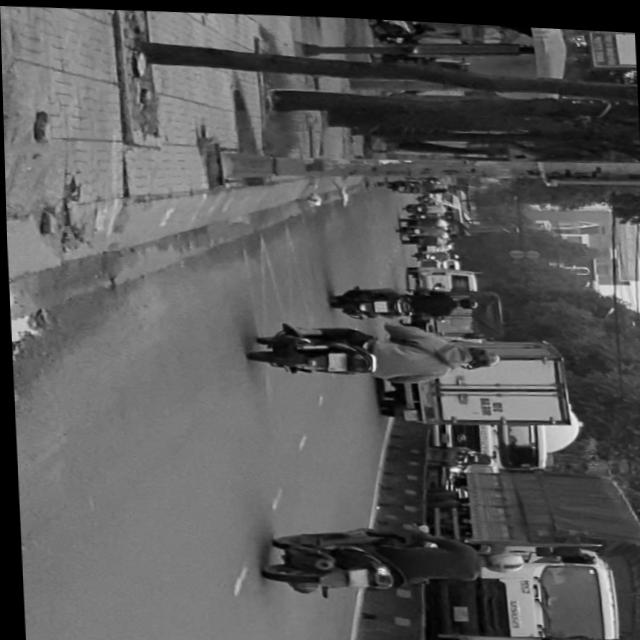helmet: (455, 340, 499, 367), (479, 546, 521, 570)
licenseplate: (256, 515, 523, 602), (246, 313, 501, 387)
nohelmet: (344, 566, 365, 584), (326, 349, 344, 368)
